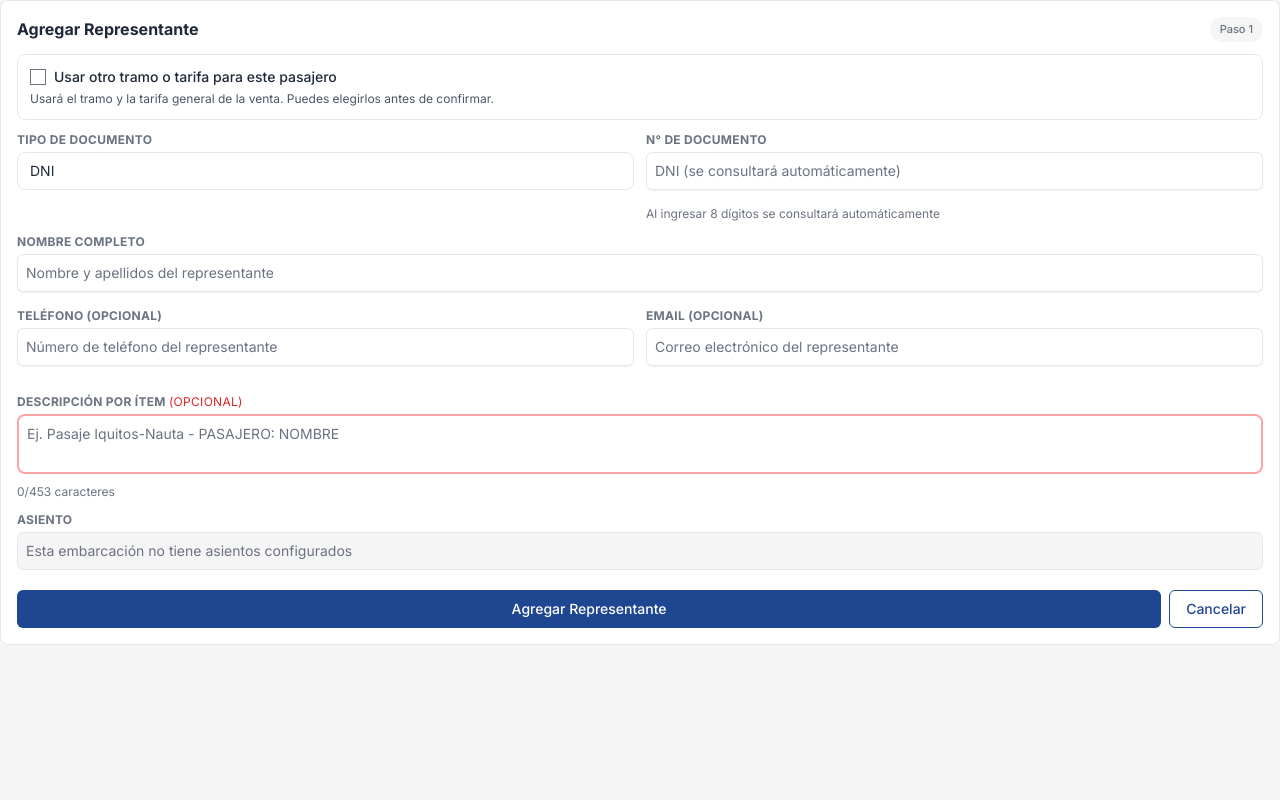
it: tramo personalizado opcional › al activar la opción toma los valores generales actuales, aunque llegaron después
Click the checkbox.
click(38, 76)  # box [30,68,46,84]
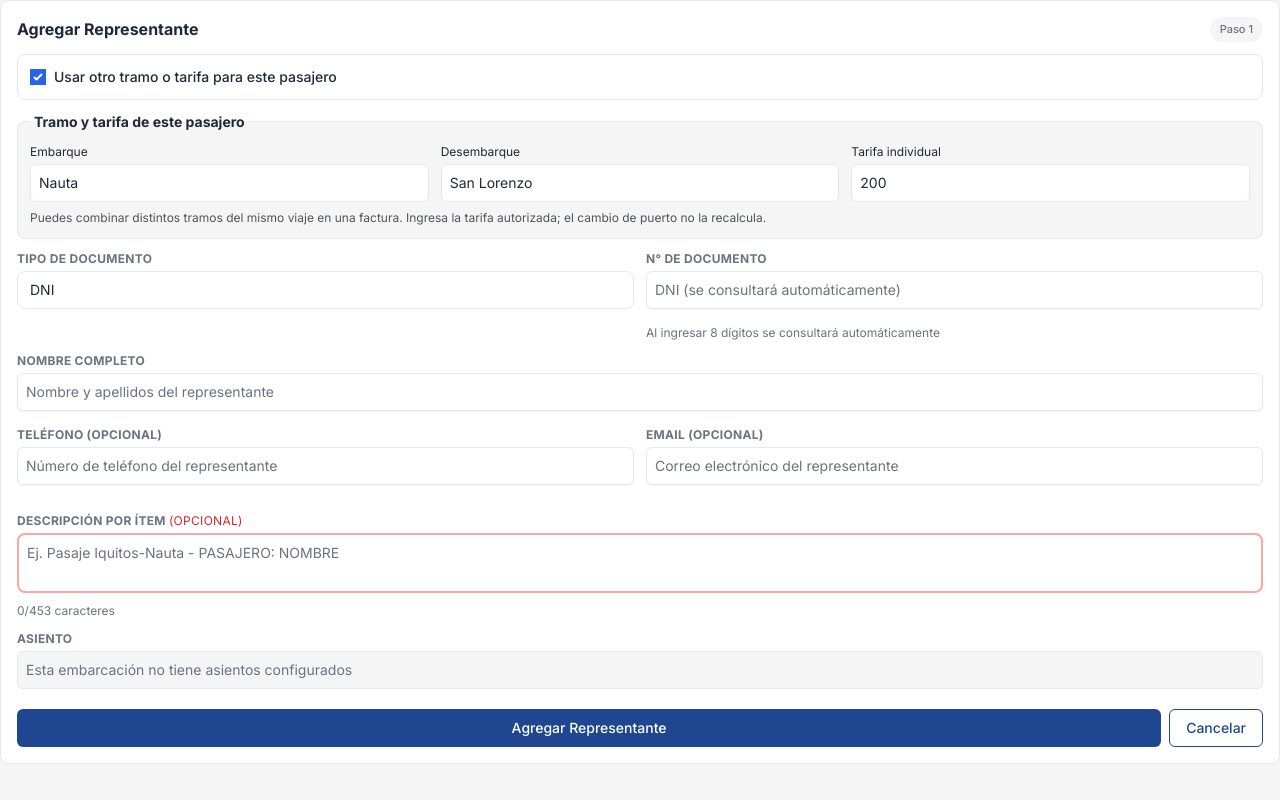
Now the number field named "Tarifa del representante" holds "200", box [851,164,1250,202]
Now the dropdown named "Desembarque del representante" shows "San Lorenzo", box [441,164,839,202]
